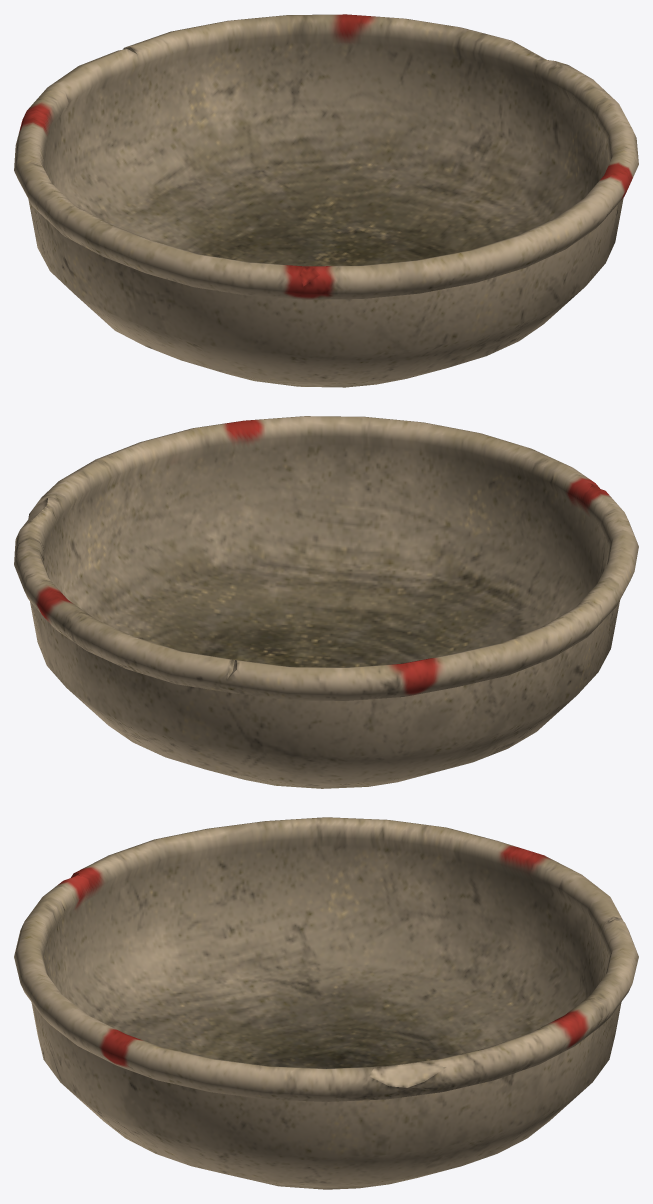
Rendered from ritualBowl.FBX.
3 views of the same model, one above another, from view 1: azimuth 30°, elevation 25°; view 2: azimuth 150°, elevation 25°; view 3: azimuth 270°, elevation 25° (orthographic).
Visible parts, largest first — view 1: ritualBowl; view 2: ritualBowl; view 3: ritualBowl.
Part boxes in pixels (x1,y1,x2,y2): ritualBowl: (14, 14, 638, 387); ritualBowl: (14, 416, 638, 788); ritualBowl: (14, 817, 638, 1189).
Size of the model in its own units: 18.43 by 6.34 by 18.43.
